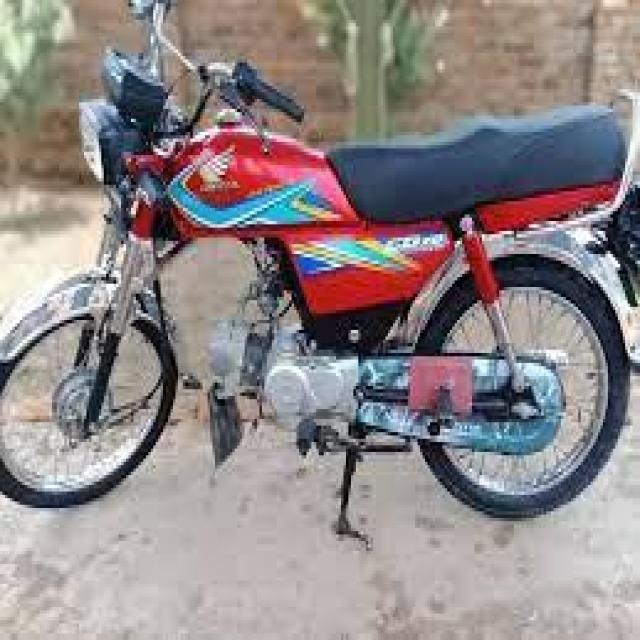motorcycle: (8, 15, 632, 556)
